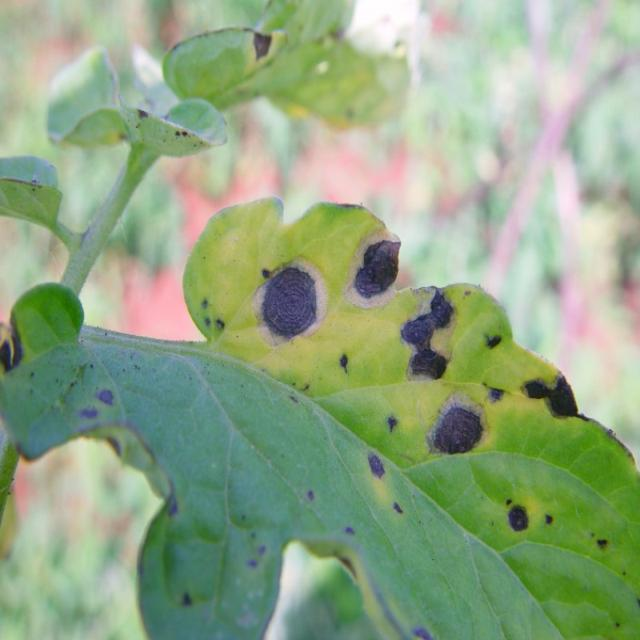Early_blight: (250, 251, 329, 350), (341, 224, 407, 311), (399, 286, 457, 383), (519, 364, 591, 424), (423, 389, 484, 451), (1, 309, 24, 387), (78, 387, 114, 423), (246, 29, 277, 67), (503, 497, 531, 534), (479, 326, 506, 352), (365, 450, 387, 479), (337, 351, 354, 380), (486, 384, 506, 405), (384, 413, 401, 436)
